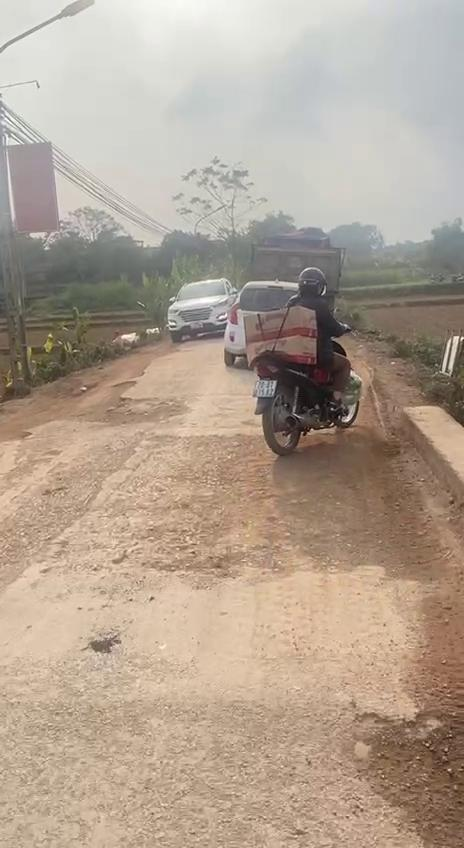pothole: (65, 376, 191, 431), (157, 542, 279, 586)
